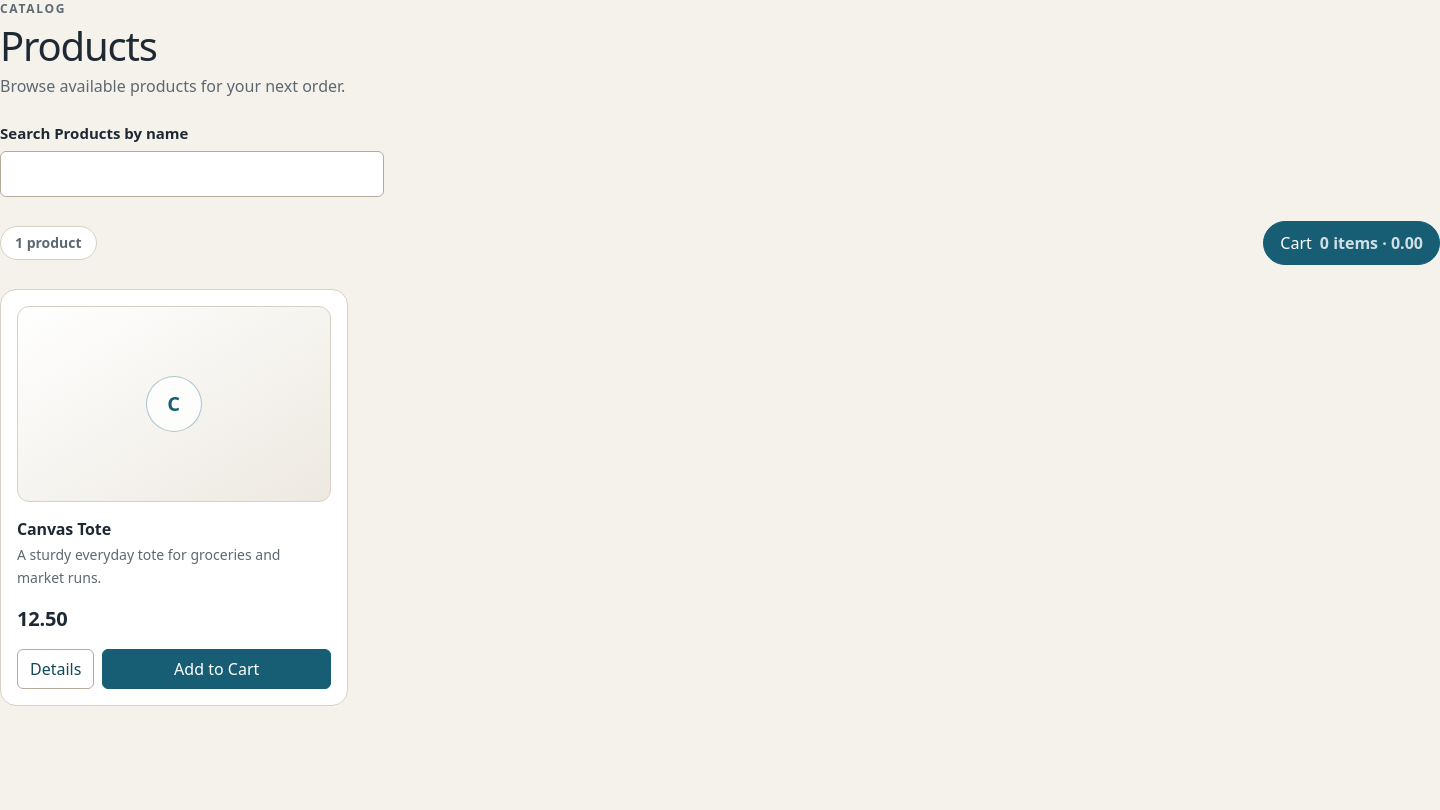
Test: Catalog › adds a Product and renders the authoritative Cart response
This screenshot has width=1440, height=810.
Click the button with aria-label "Add Canvas Tote to Cart" at (217, 669), box top-left (102, 649), bottom-right (331, 689)
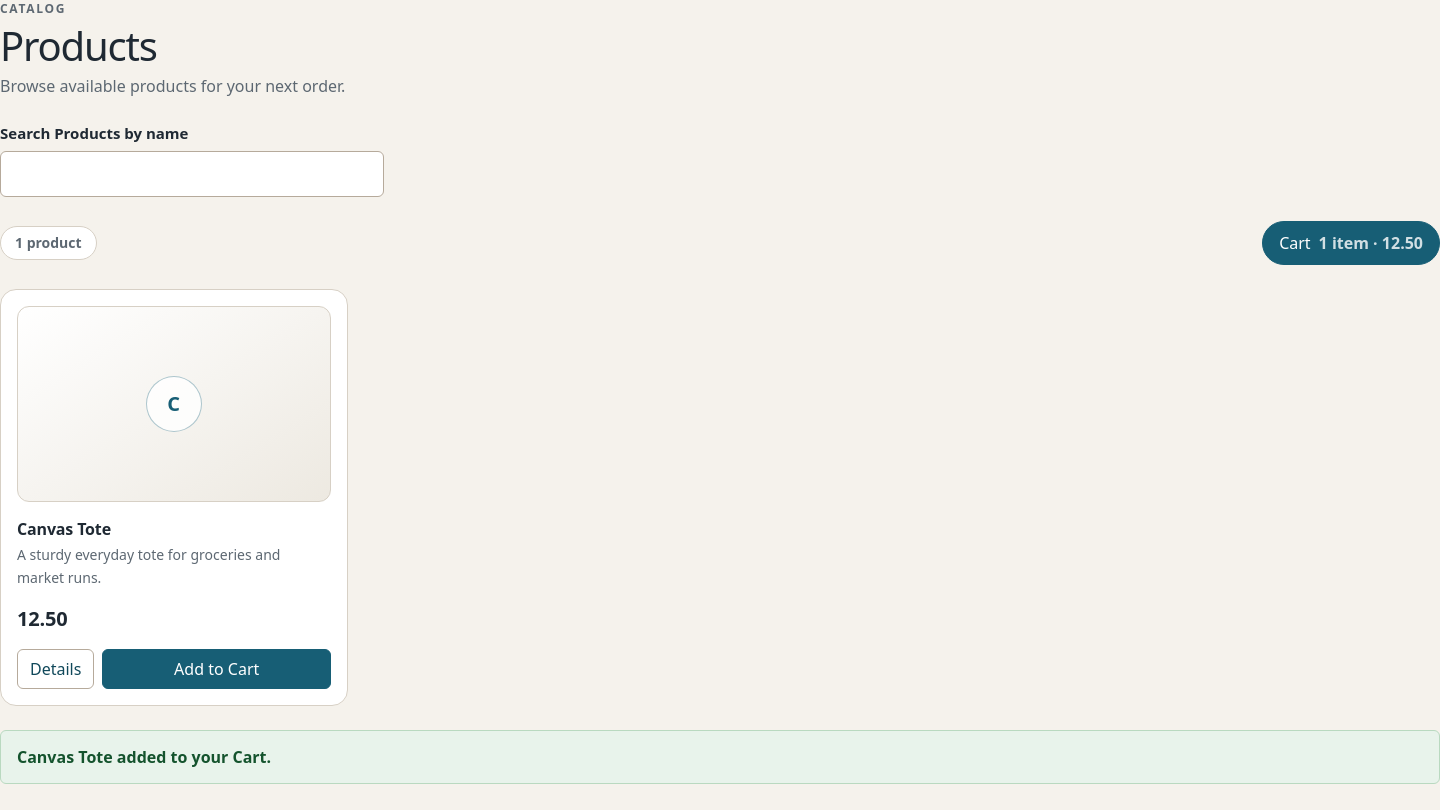
Expected: the message reads "Canvas Tote added to your Cart.", top-left (17, 746), bottom-right (271, 768)
Click the button "Cart 1 item · 12.50" at (1351, 242), box top-left (1262, 220), bottom-right (1439, 264)
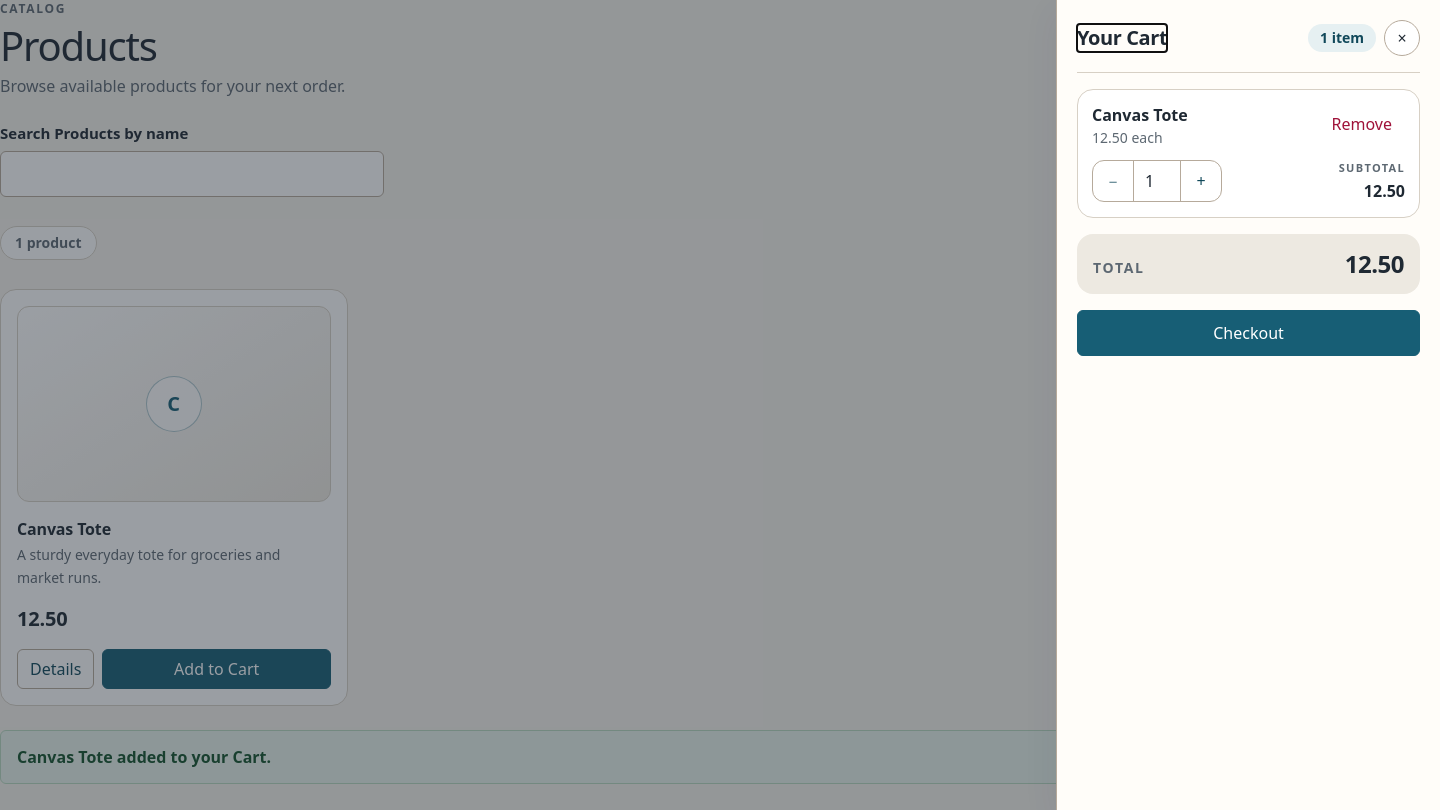
Expected: the text "12.50 each" is shown, top-left (1092, 128), bottom-right (1163, 147)
Expected: the text "Subtotal" is shown, top-left (1339, 160), bottom-right (1405, 176)
